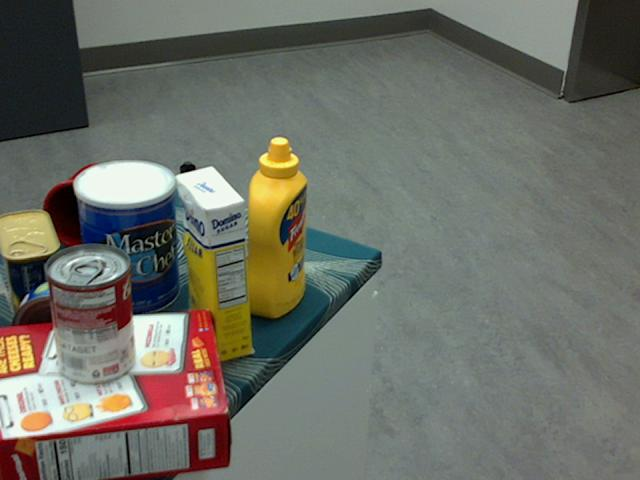cracker_box: (0, 310, 230, 479)
large_marker: (180, 160, 200, 255)
master_chef_can: (72, 159, 178, 318)
mug: (41, 163, 133, 252)
mustard_bottle: (244, 135, 307, 318)
potted_meat_can: (0, 208, 65, 321)
sugar_box: (176, 165, 251, 363)
tomato_soup_can: (44, 244, 134, 384)
tuna_fish_can: (11, 279, 107, 370)
